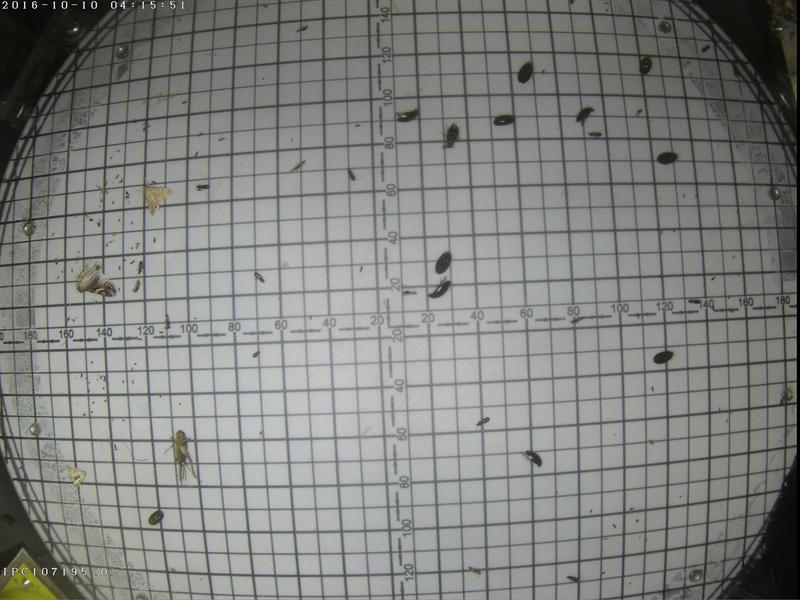Meadow borer: (139, 180, 172, 213)
Spodoptera litura: (75, 261, 116, 298)
